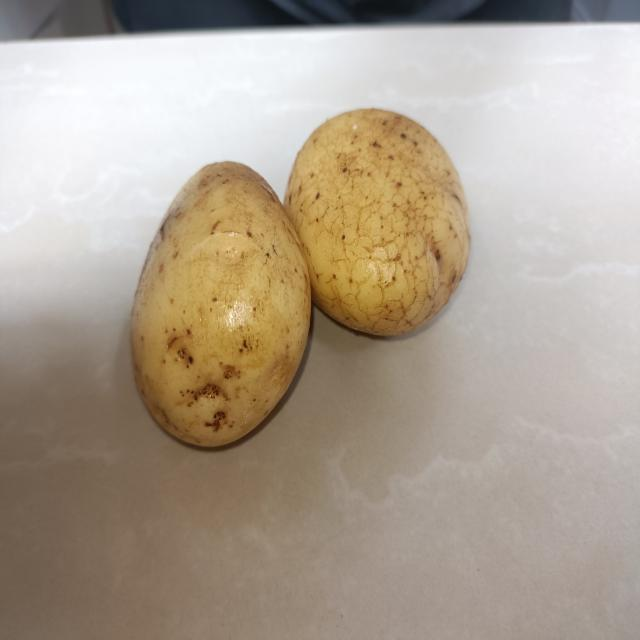potato: (121, 155, 314, 455), (285, 101, 475, 345)
